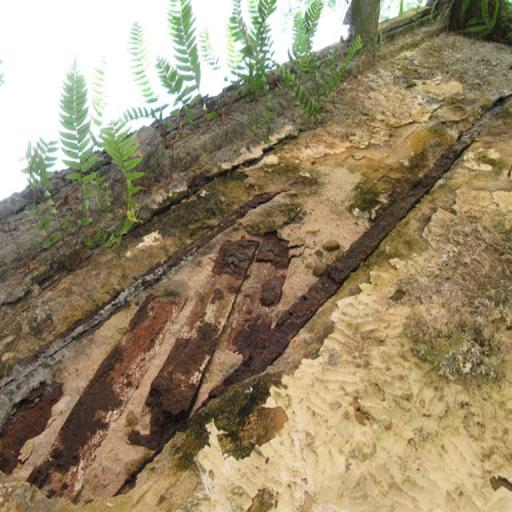spalling: (0, 124, 497, 511)
